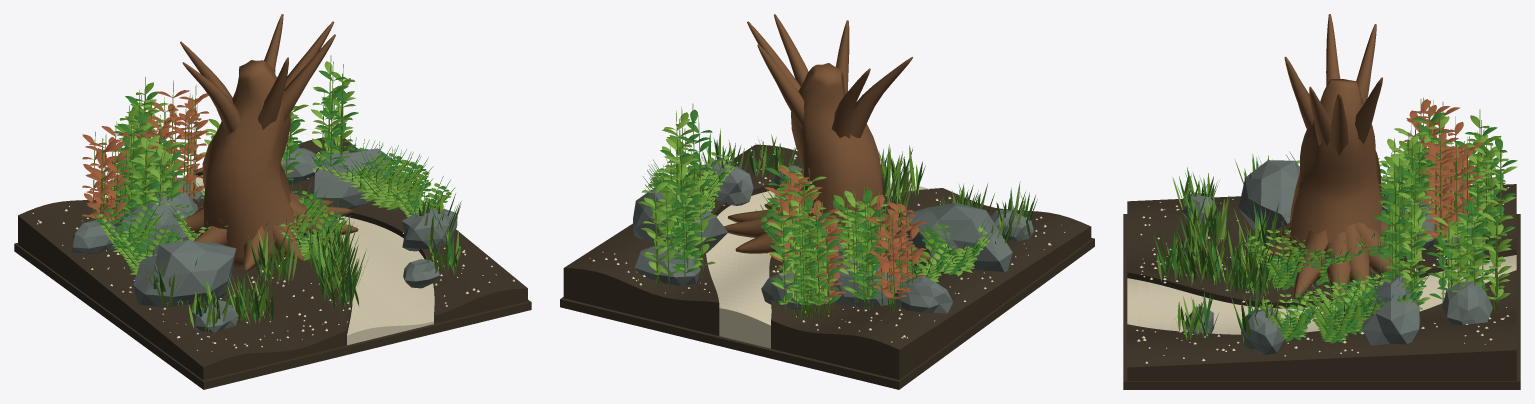
The model's file is hardscape.glb.
3 views of the same model, side by side, from view 1: azimuth 30°, elevation 25°; view 2: azimuth 150°, elevation 25°; view 3: azimuth 270°, elevation 25° (orthographic). The views are drawn at different scales.
Parts seen in each view (by area): view 1: bed.left, hardscape.wood.stump, bed.path, bed.right, bed.foundation, hardscape.stone.00, plants.stem.015, plants.stem.020, plants.stem.027, hardscape.stone.04, plants.stem.009, hardscape.stone.01 (+34 smaller); view 2: bed.left, hardscape.wood.stump, bed.right, bed.path, bed.foundation, hardscape.stone.00, plants.stem.015, plants.stem.039, plants.stem.016, plants.stem.022, plants.stem.027, plants.stem.047 (+21 smaller); view 3: bed.right, hardscape.wood.stump, bed.left, bed.foundation, bed.path, plants.stem.027, plants.stem.020, hardscape.stone.00, plants.stem.039, hardscape.stone.04, plants.stem.016, plants.stem.049 (+34 smaller).
Boxes of the visible parts, x1,y1,x2,y2 form: bed.left: [18, 195, 352, 380]; hardscape.wood.stump: [180, 14, 358, 271]; bed.path: [179, 176, 434, 345]; bed.right: [194, 138, 527, 323]; bed.foundation: [14, 243, 531, 389]; hardscape.stone.00: [133, 240, 236, 307]; plants.stem.015: [82, 121, 129, 226]; plants.stem.020: [148, 80, 208, 202]; plants.stem.027: [311, 55, 358, 172]; hardscape.stone.04: [312, 148, 392, 208]; plants.stem.009: [112, 116, 169, 219]; hardscape.stone.01: [120, 192, 198, 251]; bed.left: [769, 188, 1091, 379]; hardscape.wood.stump: [724, 14, 932, 263]; bed.right: [563, 144, 802, 335]; bed.path: [706, 183, 929, 348]; bed.foundation: [560, 238, 1094, 389]; hardscape.stone.00: [896, 203, 1012, 272]; plants.stem.015: [864, 192, 927, 312]; plants.stem.039: [638, 174, 701, 288]; plants.stem.016: [766, 180, 824, 319]; plants.stem.022: [781, 208, 840, 320]; plants.stem.027: [656, 103, 712, 230]; plants.stem.047: [838, 216, 886, 310]; bed.right: [1127, 270, 1516, 380]; hardscape.wood.stump: [1264, 14, 1410, 302]; bed.left: [1127, 184, 1516, 308]; bed.foundation: [1123, 214, 1520, 389]; bed.path: [1127, 255, 1516, 334]; plants.stem.027: [1373, 176, 1432, 309]; plants.stem.020: [1420, 116, 1483, 256]; hardscape.stone.00: [1238, 160, 1299, 244]; plants.stem.039: [1455, 200, 1513, 313]; hardscape.stone.04: [1362, 275, 1420, 345]; plants.stem.016: [1462, 109, 1517, 243]; plants.stem.049: [1426, 212, 1491, 309].
Bounding box in the file's own units: 0.441 × 0.304 × 0.441.
